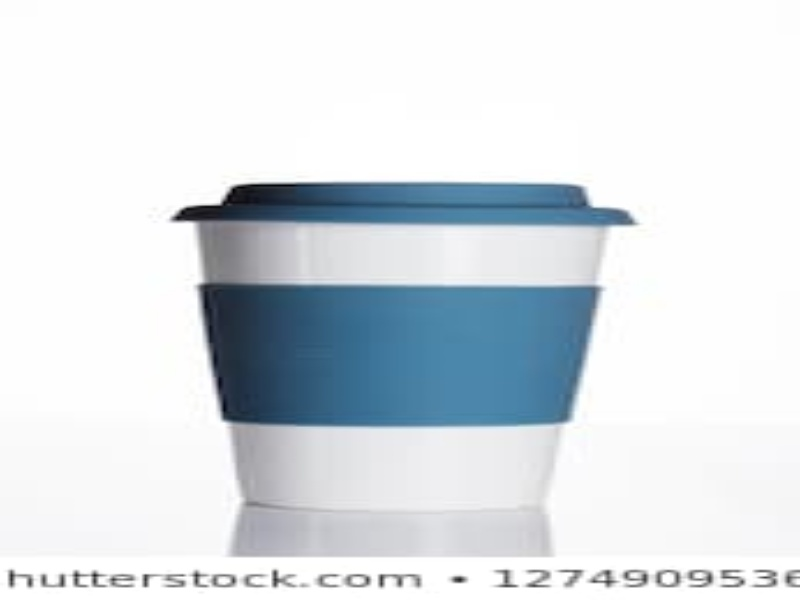coffee-lid: (163, 177, 641, 228)
plastic-cup: (166, 178, 640, 523)
